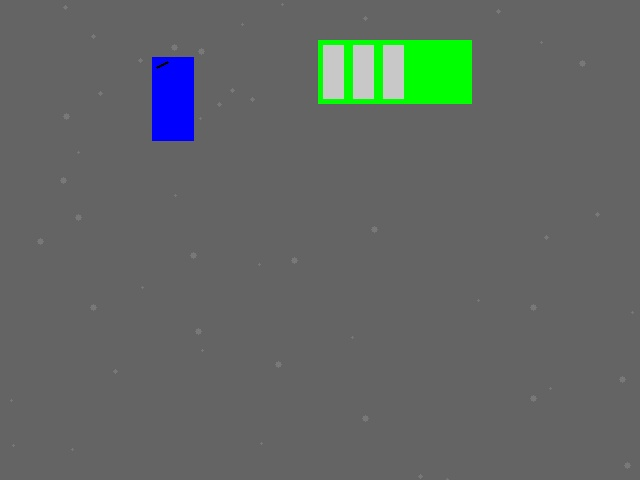bus: (318, 40, 471, 103)
motorcycle: (152, 57, 193, 140)
